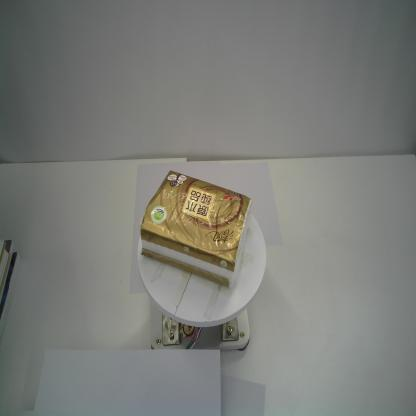Tissue: (140, 169, 252, 289)
